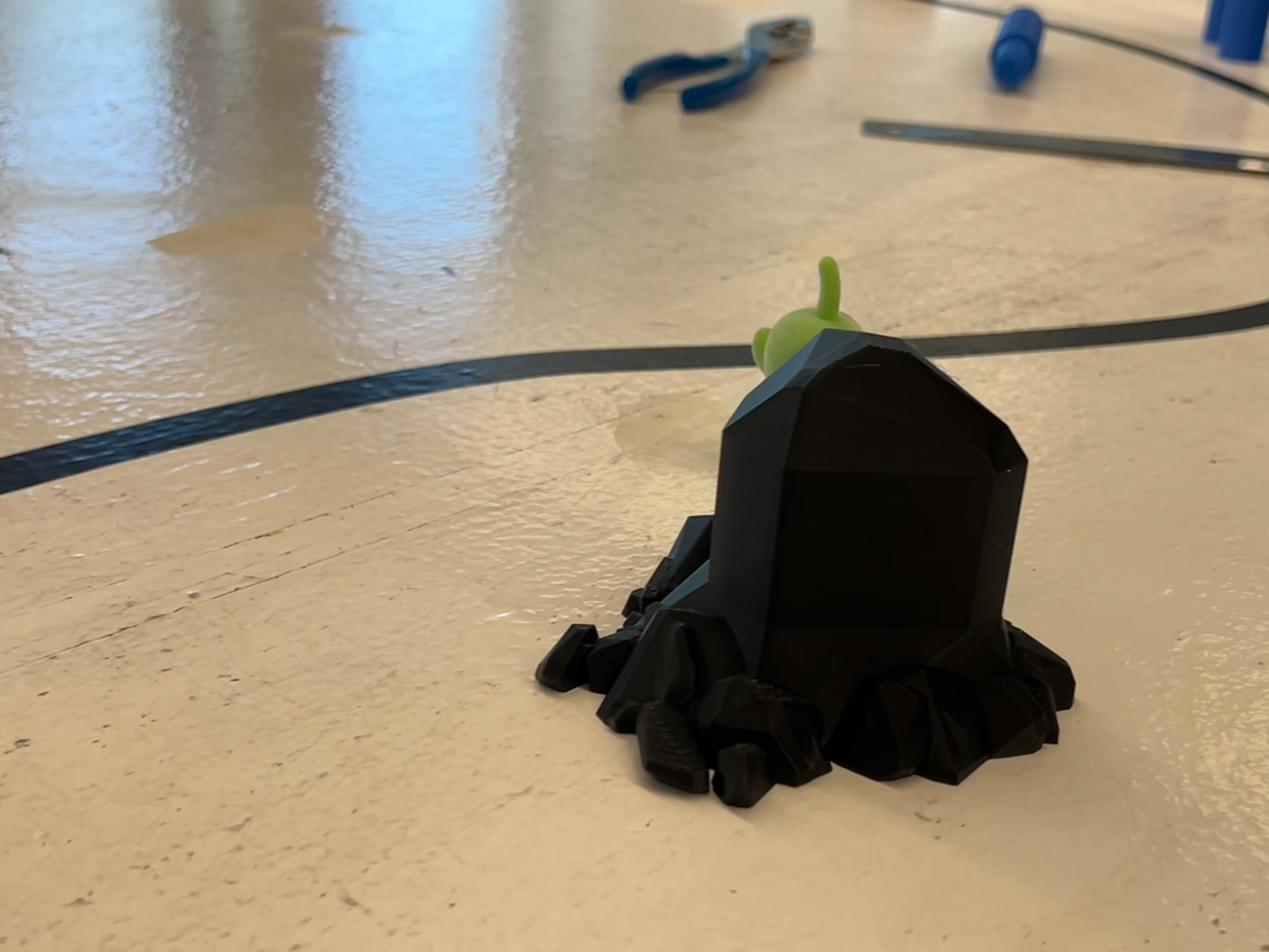teletubby: (751, 257, 862, 376)
